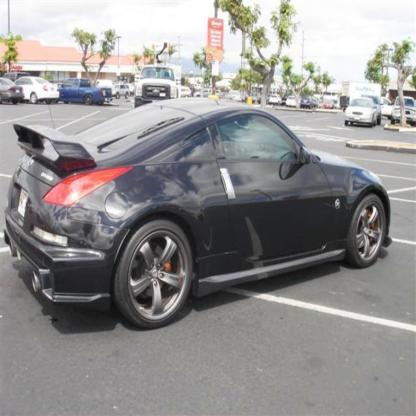Car: (4, 98, 392, 328), (16, 76, 60, 102), (345, 96, 382, 126), (0, 78, 23, 102)
